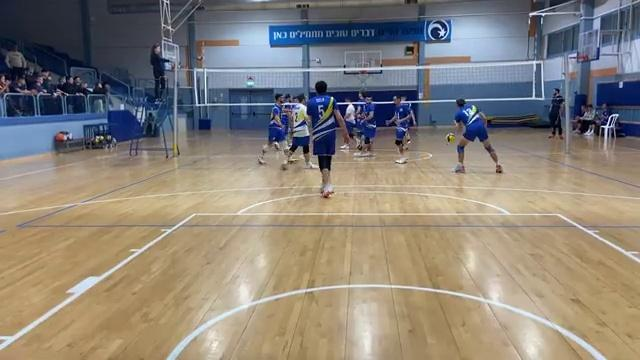ball: (444, 129, 459, 145)
